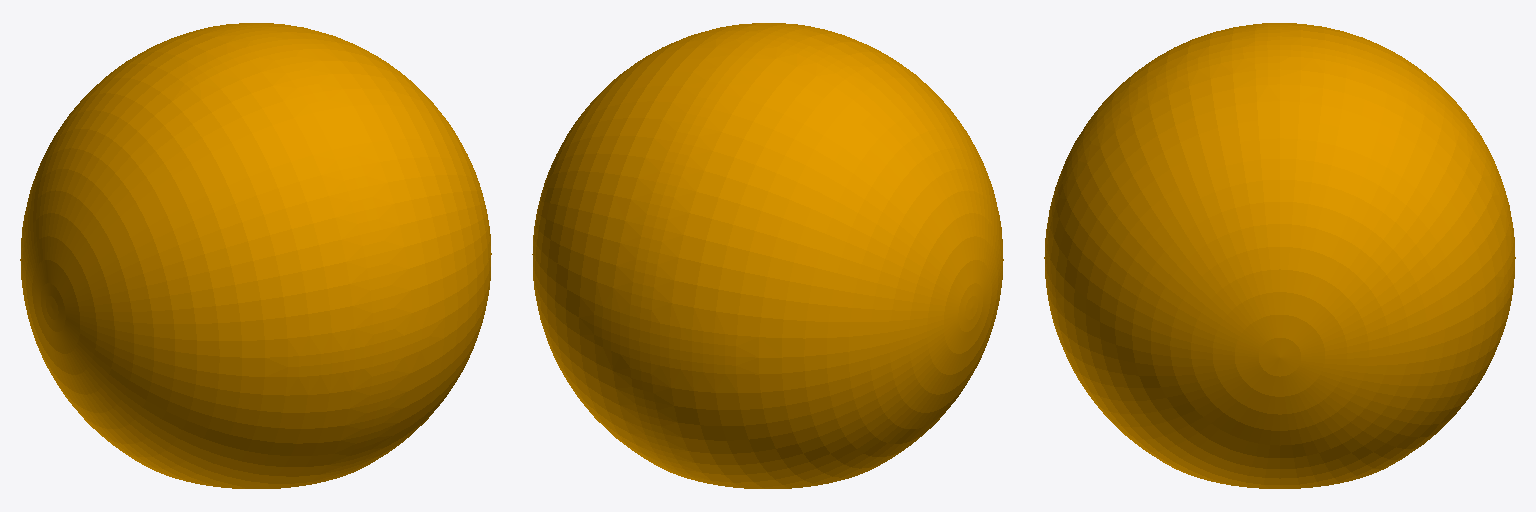
The robot description file, URDF, robot "object":
<?xml version="1.0"?>
<robot name="object">
  <link name="object">
    <visual>
      <origin xyz="0.0 0.0 0.0"/>
      <geometry>
        <mesh filename="sphere_large.stl" scale="1.00 1.00 1.00"/>
      </geometry>
    </visual>
    <collision>
      <origin xyz="0.0 0.0 0.0"/>
      <geometry>
        <mesh filename="sphere_large.stl" scale="1.00 1.00 1.00"/>
      </geometry>
    </collision>
  </link>
</robot>
    
                    

--- What the picture shows (computed from the rendered views, not written in the file) ---
The picture shows the robot from 3 angles, left to right: view 1: azimuth 30°, elevation 25°; view 2: azimuth 150°, elevation 25°; view 3: azimuth 270°, elevation 25°; orthographic projection.
Robot: object — 1 links, 0 joints (none); root link object; default pose: all joints at 0.
Links seen in each view (by area): view 1: object; view 2: object; view 3: object.
Link boxes in pixels (x1=…): object: x1=20, y1=23, x2=491, y2=488; object: x1=532, y1=23, x2=1003, y2=488; object: x1=1044, y1=23, x2=1515, y2=488.
Size in the robot's own frame: 0.1161 by 0.1161 by 0.105 metres.
1 mesh visuals loaded from 1 distinct referenced files (1 binary STL).
